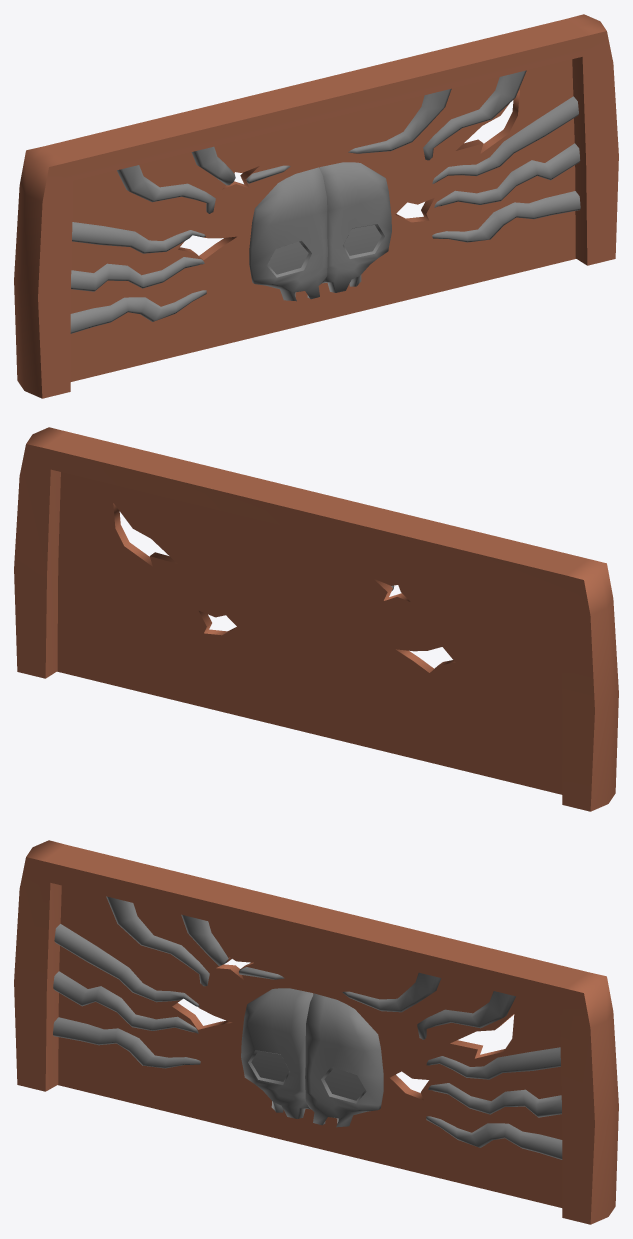
The model's file is PortaNavio.fbx.
The picture shows the model from 3 angles, top to bottom: view 1: azimuth 30°, elevation 25°; view 2: azimuth 150°, elevation 25°; view 3: azimuth 330°, elevation 25°; orthographic projection.
Parts seen in each view (by area): view 1: Porta.Dupla.Direita, Porta.Dupla.Esquerda, Porta.Dupla; view 2: Porta.Dupla.Esquerda, Porta.Dupla.Direita, Porta.Dupla; view 3: Porta.Dupla.Direita, Porta.Dupla.Esquerda, Porta.Dupla.
Part boxes in pixels (x1,y1,x2,y2): Porta.Dupla.Direita: (70,121,327,381); Porta.Dupla.Esquerda: (319,59,580,321); Porta.Dupla: (14,14,618,398); Porta.Dupla.Esquerda: (57,472,313,733); Porta.Dupla.Direita: (313,534,562,794); Porta.Dupla: (14,427,618,811); Porta.Dupla.Direita: (53,885,313,1147); Porta.Dupla.Esquerda: (305,947,562,1207); Porta.Dupla: (14,840,618,1224).
Bounding box in the file's own units: 1118 × 414 × 81.99.
